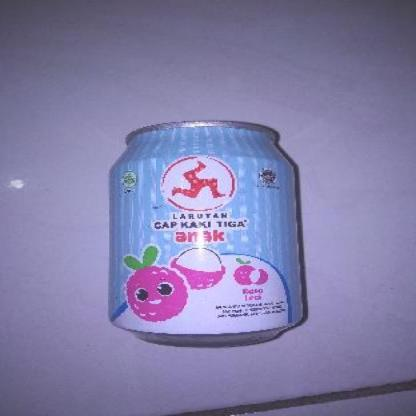alumunium_can: (102, 119, 309, 348)
